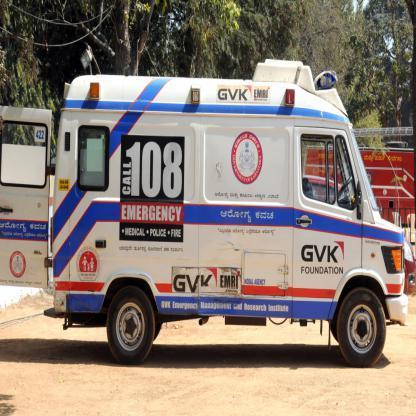Ambulance: (119, 134, 186, 204)
